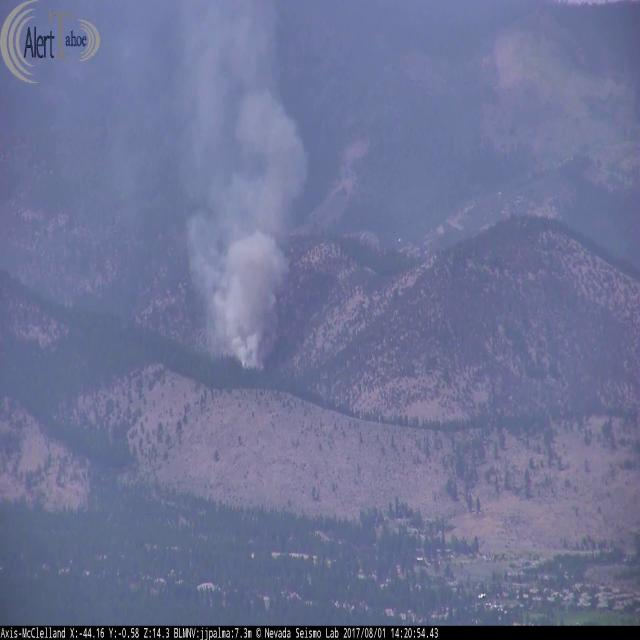smoke: (174, 4, 320, 379)
